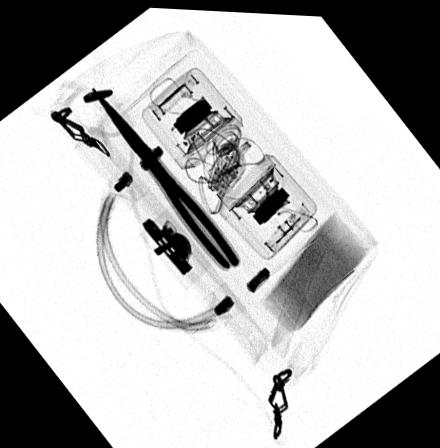Pliers: (90, 84, 241, 267)
